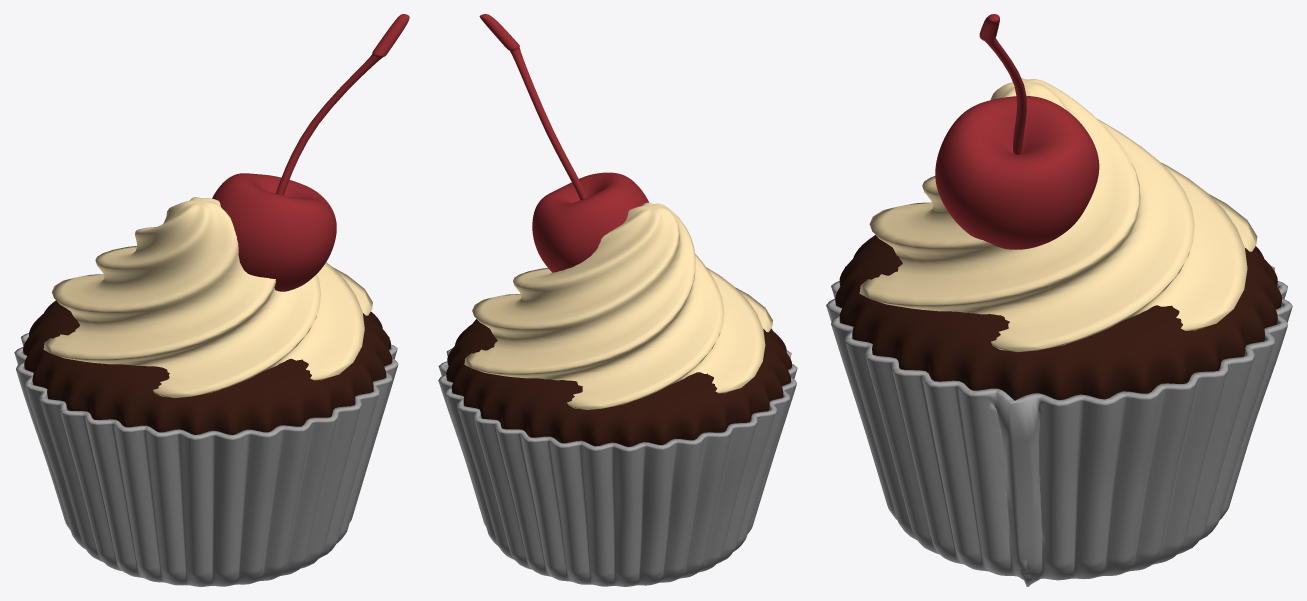
Rendered from cupcake.glb.
3 views of the same model, side by side, from view 1: azimuth 30°, elevation 25°; view 2: azimuth 150°, elevation 25°; view 3: azimuth 270°, elevation 25° (orthographic). The views are drawn at different scales.
Visible parts, largest first — view 1: Wrapper, Frosting, Cake, Cherry; view 2: Wrapper, Frosting, Cake, Cherry; view 3: Wrapper, Frosting, Cake, Cherry.
Part boxes in pixels (bbox=[...]): Wrapper: bbox=[14, 333, 398, 586]; Frosting: bbox=[43, 197, 372, 398]; Cake: bbox=[23, 300, 392, 434]; Cherry: bbox=[212, 14, 409, 291]; Wrapper: bbox=[438, 348, 797, 586]; Frosting: bbox=[464, 202, 772, 409]; Cake: bbox=[446, 319, 792, 446]; Cherry: bbox=[479, 14, 649, 272]; Wrapper: bbox=[826, 266, 1292, 586]; Frosting: bbox=[859, 78, 1257, 352]; Cake: bbox=[835, 235, 1281, 400]; Cherry: bbox=[935, 14, 1099, 249].
Bounding box in the file's own units: 3.22 × 4.54 × 3.15.
